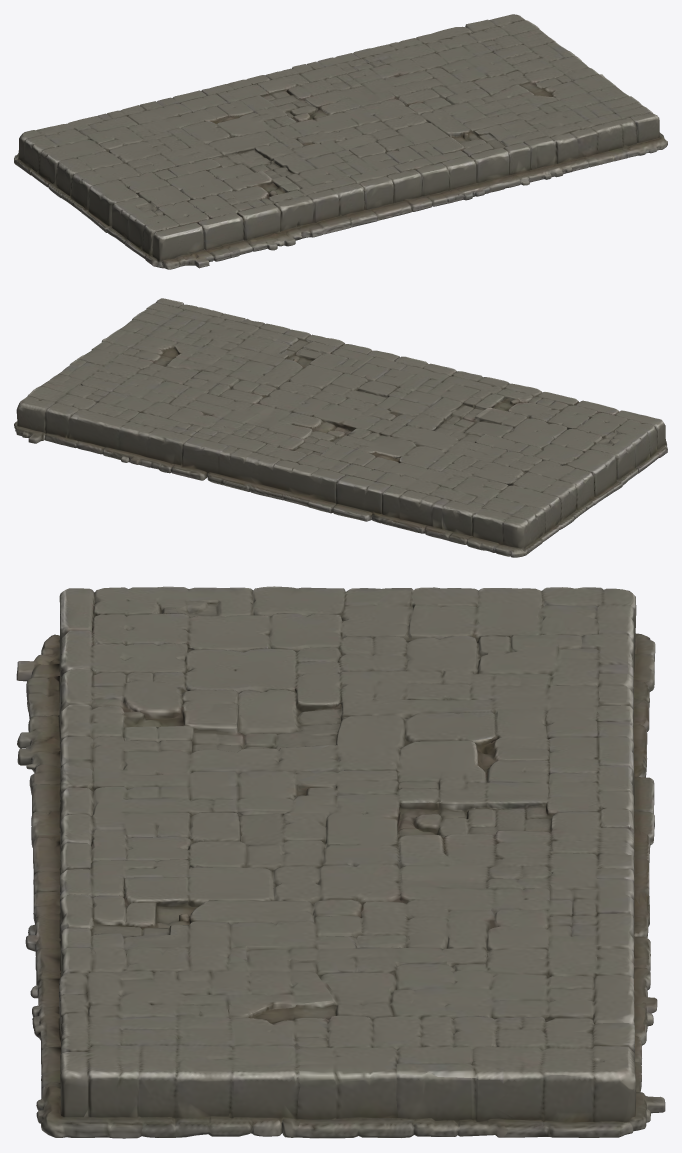
The model's file is tripo_convert_3ae90d9b-5cd3-4cfd-a5e3-5c75e177f797.fbx.
3 renders of one model, top to bottom at view 1: azimuth 30°, elevation 25°; view 2: azimuth 150°, elevation 25°; view 3: azimuth 270°, elevation 25°, orthographic. The views are drawn at different scales.
Parts seen in each view (by area): view 1: tripo_node_3ae90d9b; view 2: tripo_node_3ae90d9b; view 3: tripo_node_3ae90d9b.
Boxes of the visible parts, x1,y1,x2,y2 form: tripo_node_3ae90d9b: (14,14,667,269); tripo_node_3ae90d9b: (14,298,667,557); tripo_node_3ae90d9b: (16,586,665,1138).
Bounding box in the file's own units: 1 × 0.0569 × 0.548.
1 material, 1 textured.
